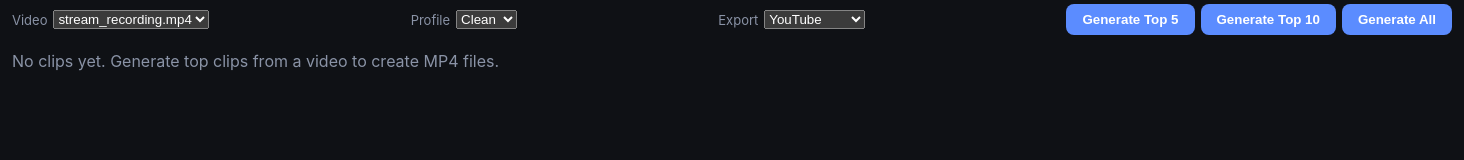
it: ClipsPanel › surfaces generation errors
Expected: the text with test id "clips-empty" is shown, [12,51,499,71]
Click the button "Generate Top 10" at [1268, 20], box [1200,4,1336,35]
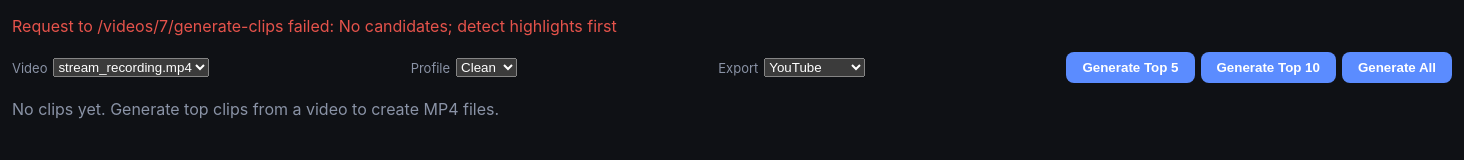
Result: the message shows "detect highlights first" at [12,16,617,36]
